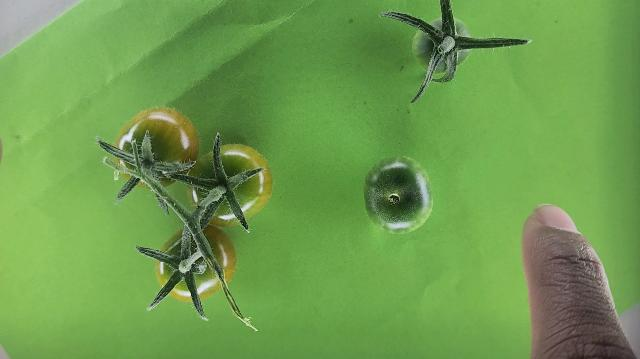Fruit Maturation: (362, 156, 434, 235), (412, 15, 472, 73)
Fully Grown: (187, 142, 274, 227), (115, 106, 200, 189), (156, 224, 236, 303)
